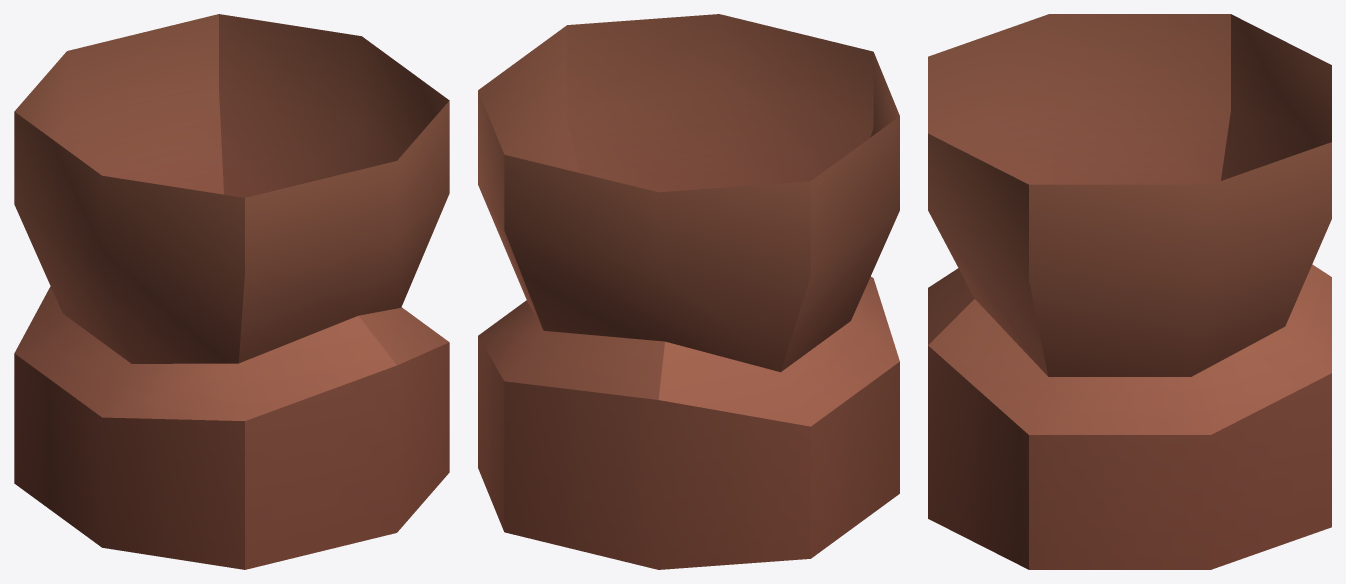
Rendered from Hill_Cliff_E_Color2.fbx.
The picture shows the model from 3 angles, left to right: view 1: azimuth 30°, elevation 25°; view 2: azimuth 150°, elevation 25°; view 3: azimuth 270°, elevation 25°; orthographic projection. The views are drawn at different scales.
Visible parts, largest first — view 1: Hill_Cliff_E_Color2; view 2: Hill_Cliff_E_Color2; view 3: Hill_Cliff_E_Color2.
Boxes of the visible parts, left/top/right/bottom form: Hill_Cliff_E_Color2: left=14, top=14, right=449, bottom=569; Hill_Cliff_E_Color2: left=478, top=14, right=899, bottom=569; Hill_Cliff_E_Color2: left=928, top=14, right=1331, bottom=569.
Size of the model in its own units: 1.9 by 2 by 1.9.
